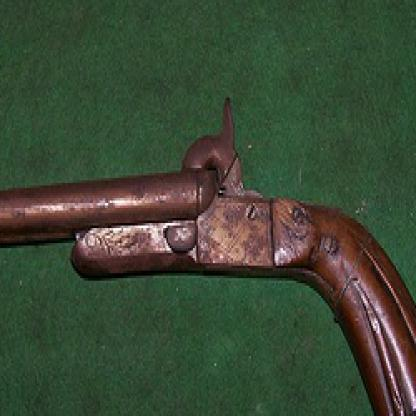gun: (0, 95, 415, 414)
